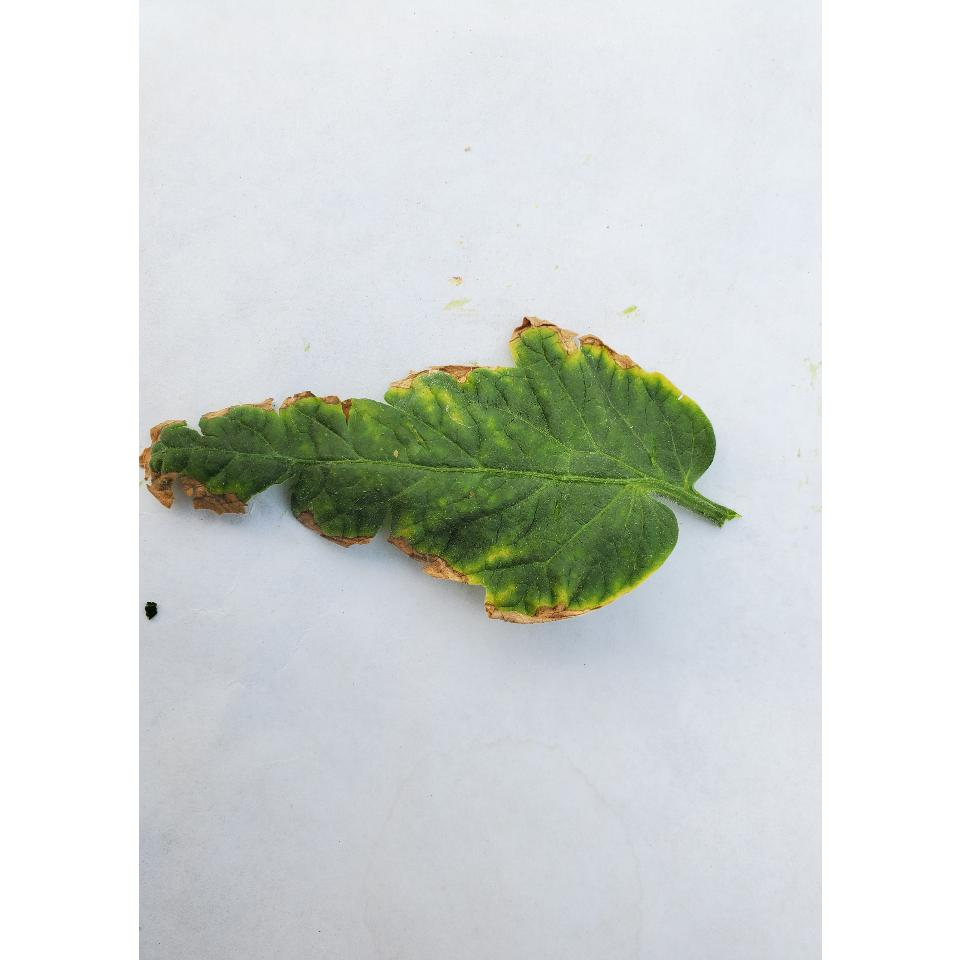tomato_bacterial_blight: (138, 310, 764, 628)
